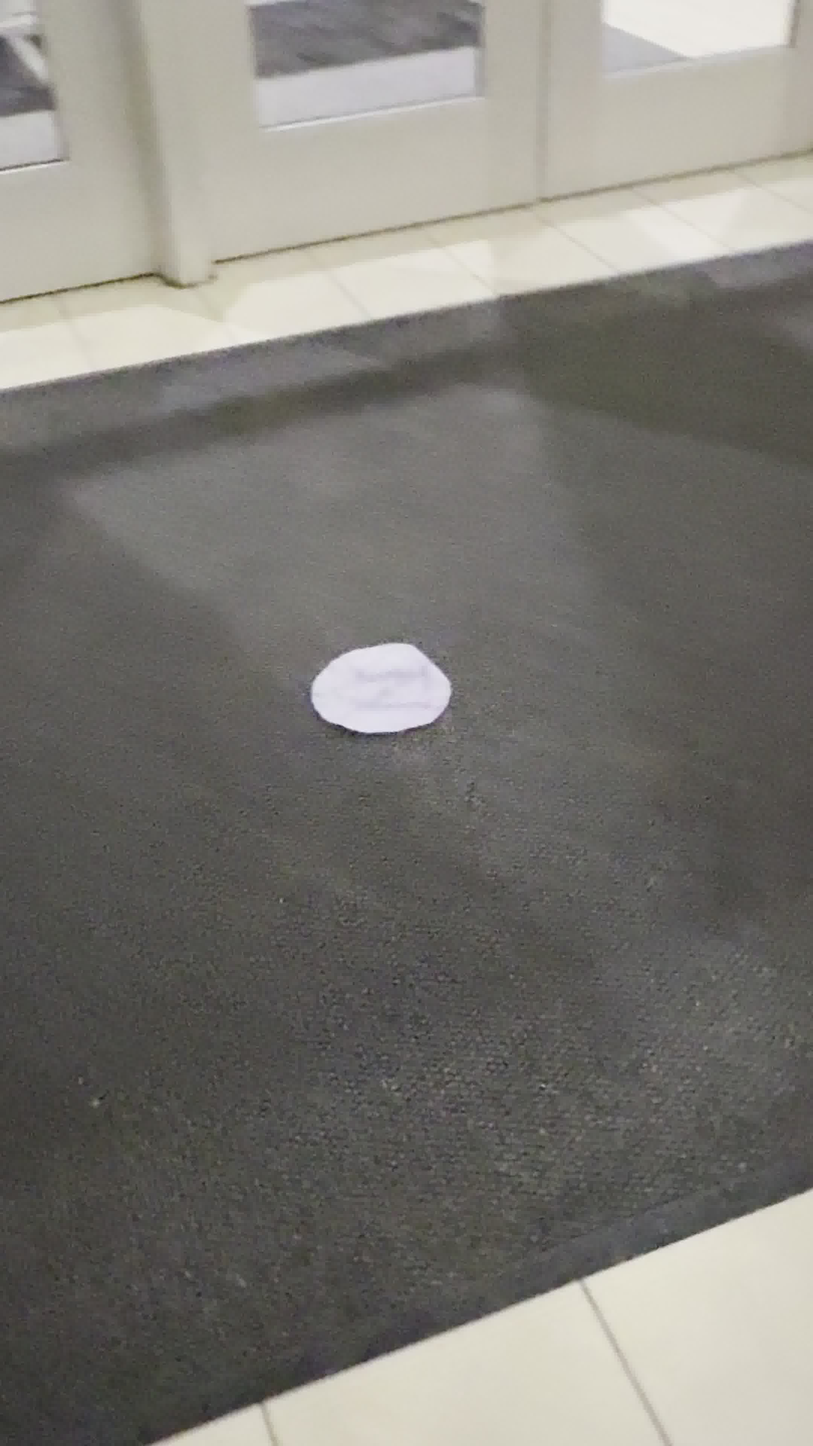Target: (311, 643, 451, 733)
